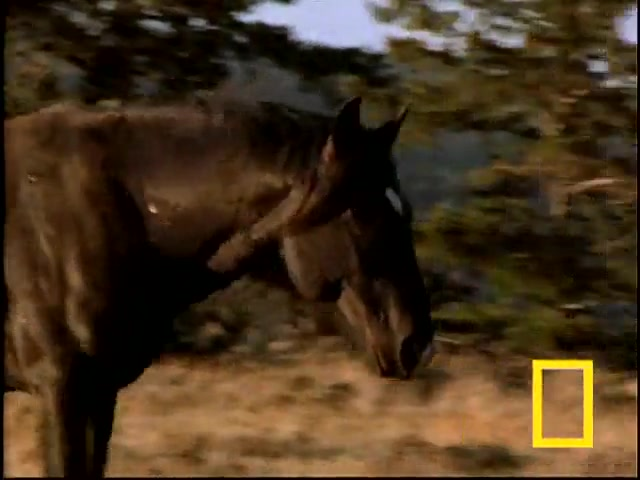horse: (1, 88, 438, 480)
